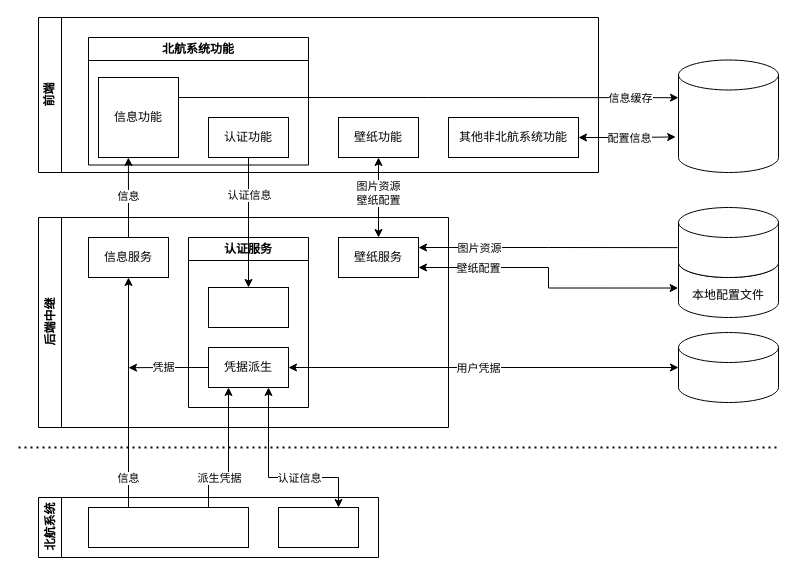
The diagram is 797 pixels wide and 575 high, and some of its shapes have lost their labels. The centre of each missing label's shape, as x and y in pixels:
SSO: (x=318, y=527)
其他各系统: (x=168, y=527)
壁纸目录: (x=728, y=242)
本地加密文件: (x=728, y=367)
浏览器localStorage: (x=728, y=115)
认证 API: (x=248, y=307)
